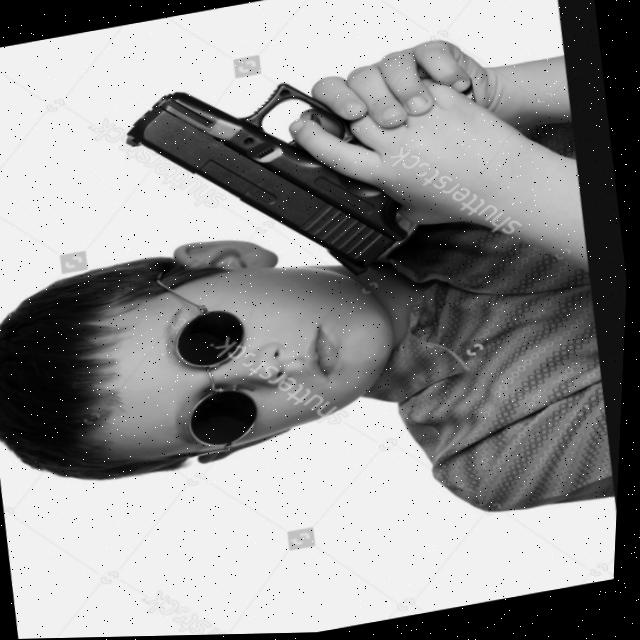pistol: (112, 52, 424, 315)
